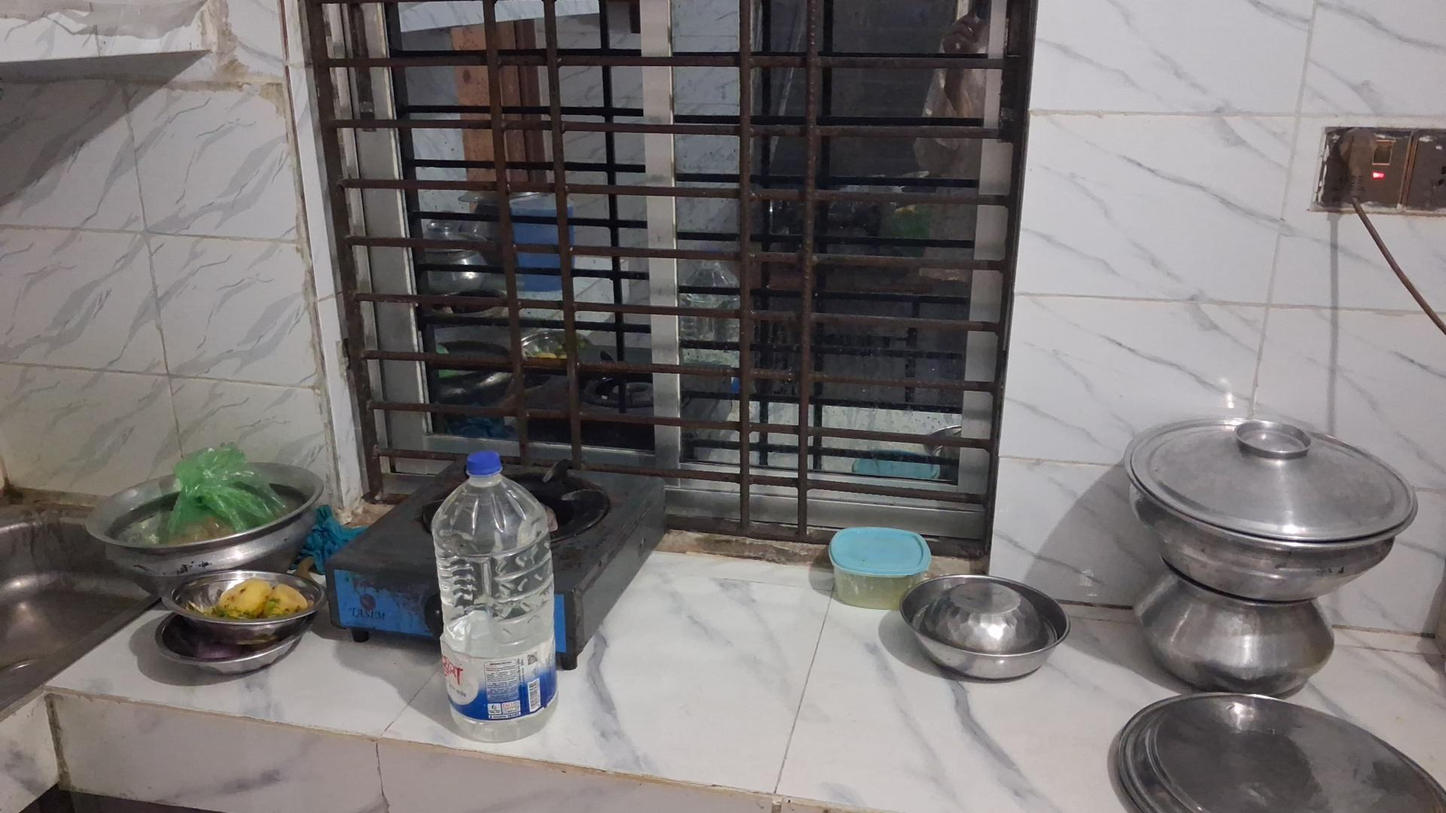Bottle: (431, 451, 560, 744)
Bowl: (900, 574, 1071, 681), (165, 573, 323, 635), (162, 617, 297, 672)
Food: (224, 578, 307, 620)
Jar: (829, 526, 933, 608)
Plate: (1107, 692, 1446, 813)
Pot: (1129, 419, 1417, 598), (84, 459, 324, 579), (1139, 556, 1338, 697)
Window: (308, 2, 1015, 544)
